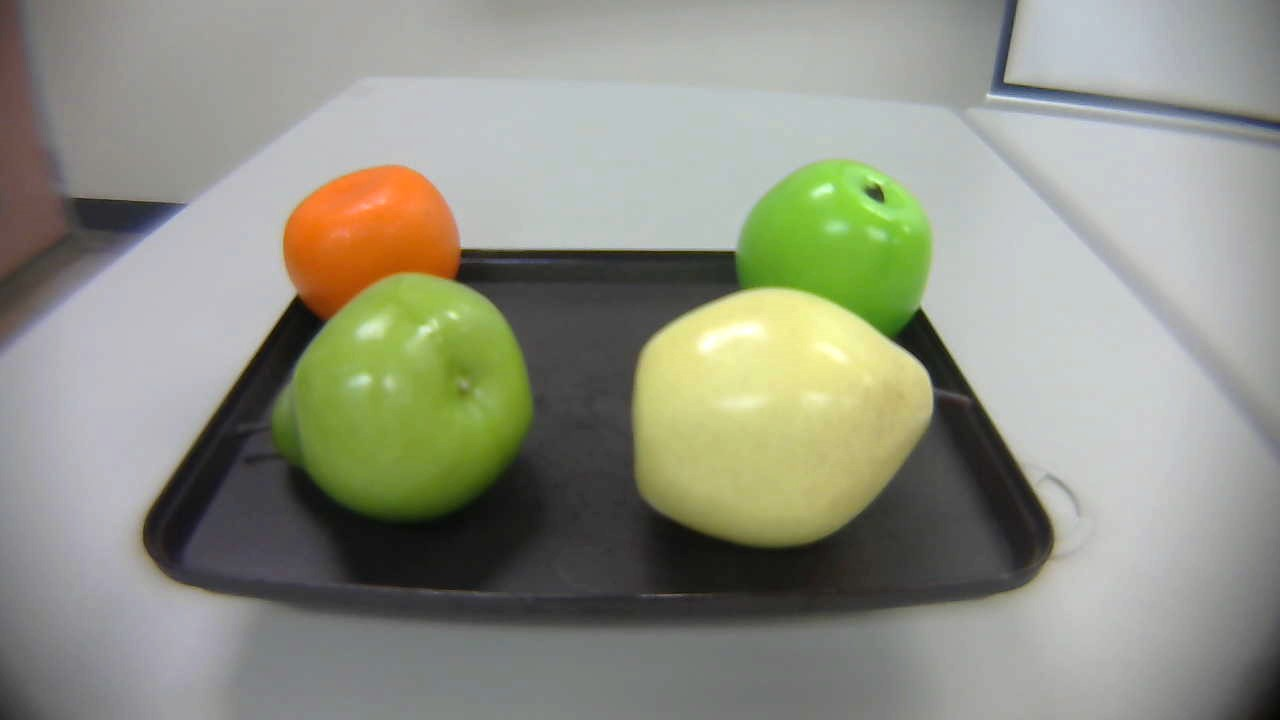green apple: (728, 161, 943, 359)
green pear: (187, 271, 558, 544)
orange: (278, 159, 477, 334)
western pear: (610, 283, 983, 544)
